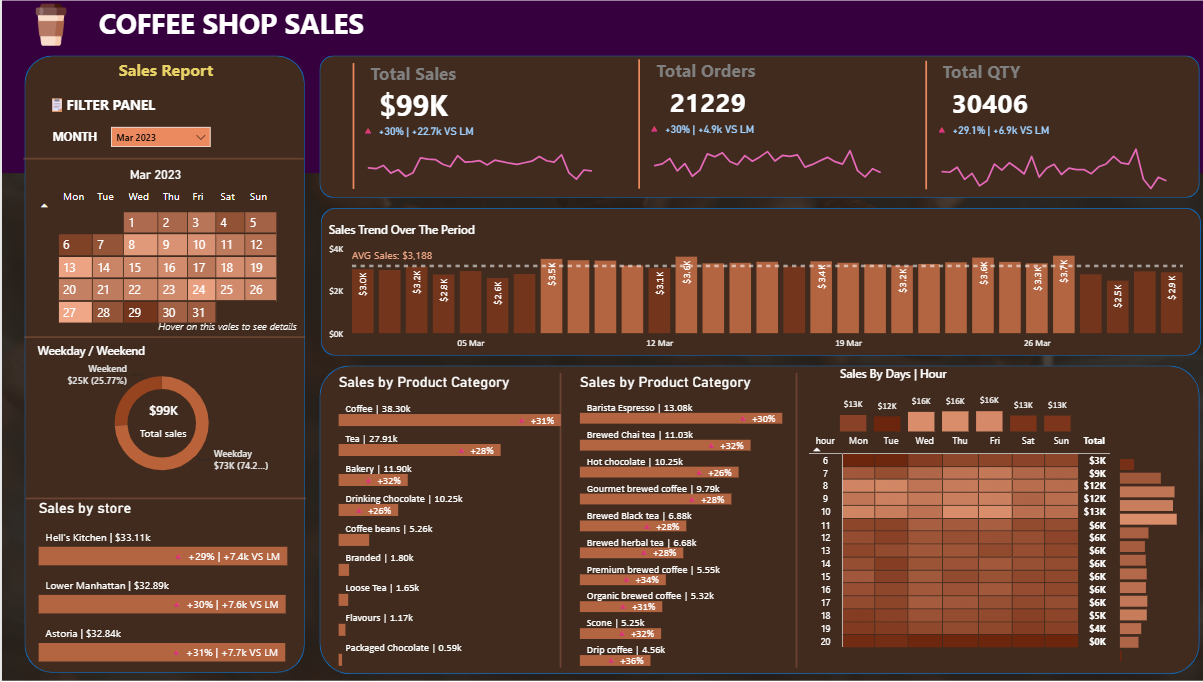

What the dashboard file says about the page in this screenshot:
{"tool":"powerbi","page":{"name":"Page 1","canvas":[1400,850],"ordinal":0},"visuals":[{"type":"shape","box":[367.9,449.1,1020,357.8],"z":0},{"type":"shape","box":[902.8,458,36.6,341.3],"z":0,"group":"g5"},{"type":"shape","box":[0,26.6,1399,200],"z":1000},{"type":"clusteredBarChart","title":"Sales by Product Category","fields":{"Y":["Transactions.Placeholder","Transactions.total sales"],"Category":["Transactions.product_type"]},"box":[664.8,458,279,345.1],"z":1000,"group":"g5"},{"type":"shape","box":[25.4,90.1,324.8,715.5],"z":2000},{"type":"shape","box":[367.9,90.1,1020,164.9],"z":3000},{"type":"textbox","box":[107.5,26.2,330,55],"z":4000},{"type":"card","title":"Total Orders","fields":{"Values":["Transactions.total order"]},"box":[742.5,93.1,139.6,81.2],"z":4000,"group":"g2"},{"type":"card","title":"Total QTY","fields":{"Values":["Transactions.total qty"]},"box":[1074.9,93.9,129.5,81.2],"z":4000,"group":"g3"},{"type":"card","title":"Total Sales","fields":{"Values":["Transactions.total sales"]},"box":[352.6,97.7,239.2,78],"z":4000,"group":"g1"},{"type":"slicer","fields":{"Values":["Date Table.Month Year"]},"box":[121.2,162.5,130,43.8],"z":5000},{"type":"group","id":"g1","title":"Group 1","box":[334.9,97.7,364.1,153.5],"z":6000},{"type":"lineChart","fields":{"Category":["Date Table.Date.Variation.Date Hierarchy.Year","Date Table.Date.Variation.Date Hierarchy.Quarter","Date Table.Date.Variation.Date Hierarchy.Month","Date Table.Date.Variation.Date Hierarchy.Day"],"Y":["Transactions.total order"]},"box":[741.6,165.9,291.1,85.3],"z":6000,"group":"g2"},{"type":"lineChart","fields":{"Category":["Date Table.Date.Variation.Date Hierarchy.Year","Date Table.Date.Variation.Date Hierarchy.Quarter","Date Table.Date.Variation.Date Hierarchy.Month","Date Table.Date.Variation.Date Hierarchy.Day"],"Y":["Transactions.total qty"]},"box":[1074.7,166.9,289,85],"z":6000,"group":"g3"},{"type":"lineChart","fields":{"Category":["Date Table.Date.Variation.Date Hierarchy.Year","Date Table.Date.Variation.Date Hierarchy.Quarter","Date Table.Date.Variation.Date Hierarchy.Month","Date Table.Date.Variation.Date Hierarchy.Day"],"Y":["Transactions.total sales"]},"box":[410.9,168.3,288.1,82.9],"z":6000,"group":"g1"},{"type":"group","id":"g2","title":"Group 1","box":[664.8,93.1,367.9,158.1],"z":7000},{"type":"group","id":"g3","title":"Group 1","box":[998.4,93.9,365.3,158],"z":8000},{"type":"shape","box":[664.8,94.5,146.9,150.3],"z":8001,"group":"g2"},{"type":"shape","box":[998.4,95.8,145.9,149.7],"z":8001,"group":"g3"},{"type":"shape","box":[334.9,98.8,145.4,146.1],"z":8001,"group":"g1"},{"type":"pivotTable","fields":{"Columns":["Date Table.Day name"],"Rows":["Date Table.week number"],"Values":["Min(Date Table.day num)"]},"box":[35,236.2,315,177.5],"z":9000},{"type":"card","fields":{"Values":["Min(Date Table.Month Year)"]},"box":[122.5,213.8,110,30],"z":10000},{"type":"card","fields":{"Values":["Transactions.Foot note"]},"box":[149.7,385.7,224.6,41.9],"z":11000},{"type":"shape","box":[25.4,394.6,324.8,44.4],"z":12000},{"type":"shape","box":[25,187.5,325,45],"z":13000},{"type":"donutChart","title":"Weekday / Weekend","fields":{"Category":["Date Table.Week Type"],"Y":["Transactions.total sales"]},"box":[36.8,422.5,298.1,168.7],"z":14000},{"type":"cardVisual","fields":{"Data":["Transactions.total sales"]},"box":[140,478.8,93.8,66.2],"z":15000},{"type":"shape","box":[27.9,581,324.8,44.4],"z":16000},{"type":"clusteredBarChart","title":"Sales by store","fields":{"Category":["Transactions.store_location"],"Y":["Transactions.Placeholder","Transactions.total sales"]},"box":[38.1,603.9,314.6,196],"z":17000},{"type":"shape","box":[369.2,266.4,1020,171.3],"z":18000},{"type":"columnChart","title":"Sales Trend Over The Period","fields":{"Category":["Transactions.transaction_date"],"Y":["Transactions.total sales"]},"box":[374.3,282.9,1003.5,157.3],"z":19000},{"type":"group","id":"g4","title":"Group 2","box":[385.7,458,279.1,345.1],"z":20000},{"type":"clusteredBarChart","title":"Sales by Product Category","fields":{"Y":["Transactions.Placeholder","Transactions.total sales"],"Category":["Transactions.product_category"]},"box":[385.7,458,279.1,345.1],"z":20000,"group":"g4"},{"type":"shape","box":[630.6,458,34.3,341.3],"z":21000,"group":"g4"},{"type":"group","id":"g5","title":"Group 3","box":[664.8,458,279,345.1],"z":21000},{"type":"pivotTable","fields":{"Rows":["Transactions.hour"],"Columns":["Date Table.Day name"],"Values":["Transactions.total sales"]},"box":[930,525,370,277.5],"z":22000},{"type":"barChart","fields":{"Category":["Transactions.hour"],"Y":["Transactions.total sales"]},"box":[1291.2,545,88.8,252.5],"z":23000},{"type":"columnChart","title":"Sales By Days | Hour","fields":{"Y":["Transactions.total sales"],"Category":["Date Table.Day name"]},"box":[966.4,449.5,278.3,82.7],"z":24000},{"type":"textbox","box":[53.8,170,83.8,36.2],"z":25000},{"type":"textbox","box":[47.5,130,147.5,36.2],"z":26000},{"type":"textbox","box":[130,88.8,128.8,36.2],"z":27000},{"type":"image","box":[27.5,21.2,58.8,65],"z":28000}]}

Visuals, with their boxes on the page's 1400x850 design canvas (x1, y1, x2, y2). These are canvas units, not pixel positions in the 1203x682 screenshot, which may show the page scaled, cropped or inside an application window:
shape: (368, 449, 1388, 807)
shape: (903, 458, 939, 799)
shape: (0, 27, 1399, 227)
"Sales by Product Category" clusteredBarChart: (665, 458, 944, 803)
shape: (25, 90, 350, 806)
shape: (368, 90, 1388, 255)
textbox: (108, 26, 438, 81)
"Total Orders" card: (742, 93, 882, 174)
"Total QTY" card: (1075, 94, 1204, 175)
"Total Sales" card: (353, 98, 592, 176)
slicer - Date Table.Month Year: (121, 162, 251, 206)
"Group 1" group: (335, 98, 699, 251)
lineChart - Date Table.Date.Variation.Date Hierarchy.Year x Date Table.Date.Variation.Date Hierarchy.Quarter: (742, 166, 1033, 251)
lineChart - Date Table.Date.Variation.Date Hierarchy.Year x Date Table.Date.Variation.Date Hierarchy.Quarter: (1075, 167, 1364, 252)
lineChart - Date Table.Date.Variation.Date Hierarchy.Year x Date Table.Date.Variation.Date Hierarchy.Quarter: (411, 168, 699, 251)
"Group 1" group: (665, 93, 1033, 251)
"Group 1" group: (998, 94, 1364, 252)
shape: (665, 94, 812, 245)
shape: (998, 96, 1144, 246)
shape: (335, 99, 480, 245)
pivotTable - Date Table.Day name x Date Table.week number: (35, 236, 350, 414)
card - Min(Date Table.Month Year): (122, 214, 232, 244)
card - Transactions.Foot note: (150, 386, 374, 428)
shape: (25, 395, 350, 439)
shape: (25, 188, 350, 232)
"Weekday / Weekend" donutChart: (37, 422, 335, 591)
cardVisual - Transactions.total sales: (140, 479, 234, 545)
shape: (28, 581, 353, 625)
"Sales by store" clusteredBarChart: (38, 604, 353, 800)
shape: (369, 266, 1389, 438)
"Sales Trend Over The Period" columnChart: (374, 283, 1378, 440)
"Group 2" group: (386, 458, 665, 803)
"Sales by Product Category" clusteredBarChart: (386, 458, 665, 803)
shape: (631, 458, 665, 799)
"Group 3" group: (665, 458, 944, 803)
pivotTable - Transactions.hour x Date Table.Day name: (930, 525, 1300, 802)
barChart - Transactions.hour x Transactions.total sales: (1291, 545, 1380, 798)
"Sales By Days | Hour" columnChart: (966, 450, 1245, 532)
textbox: (54, 170, 138, 206)
textbox: (48, 130, 195, 166)
textbox: (130, 89, 259, 125)
image: (28, 21, 86, 86)
